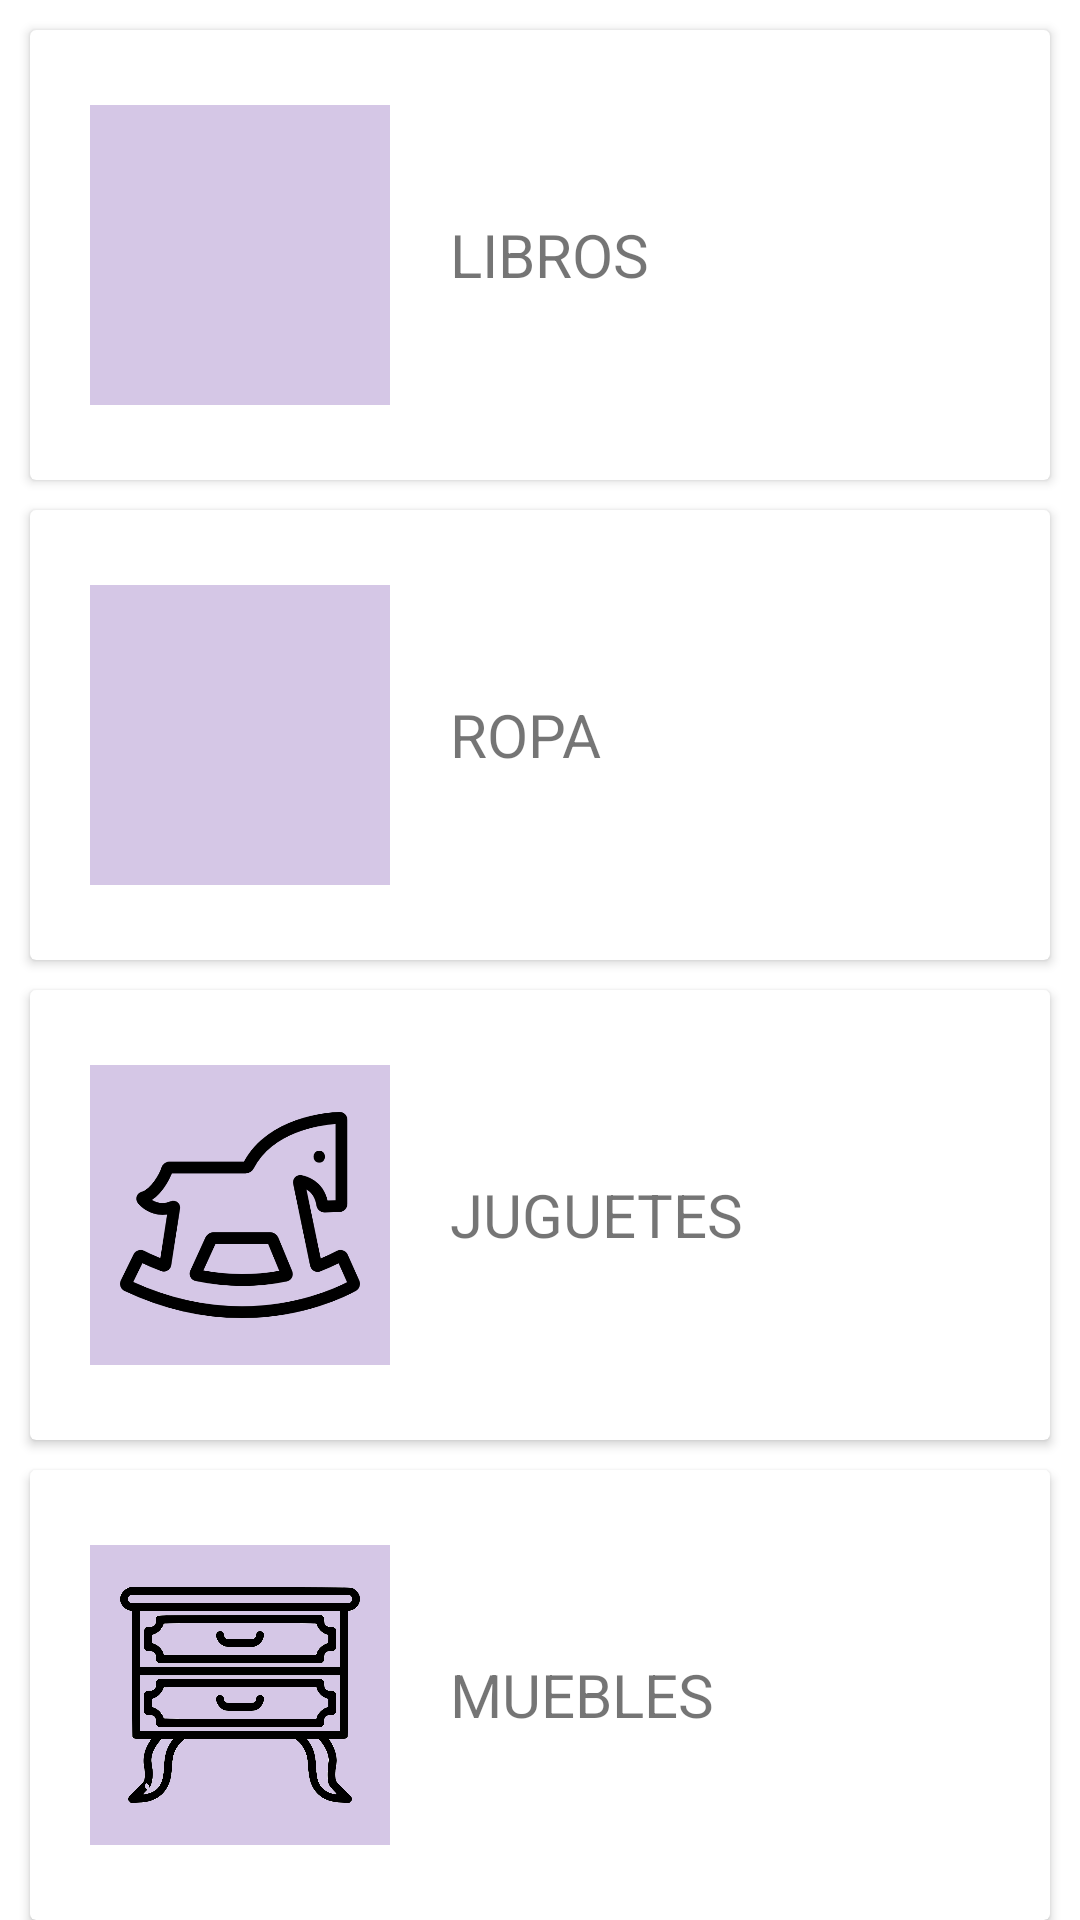

Named icons in this screenshot (1080 x 1920) and their bounding boxes, (x1, y1, x2, y2):
furniture: (90, 1545, 390, 1845)
toys: (90, 1065, 390, 1365)
